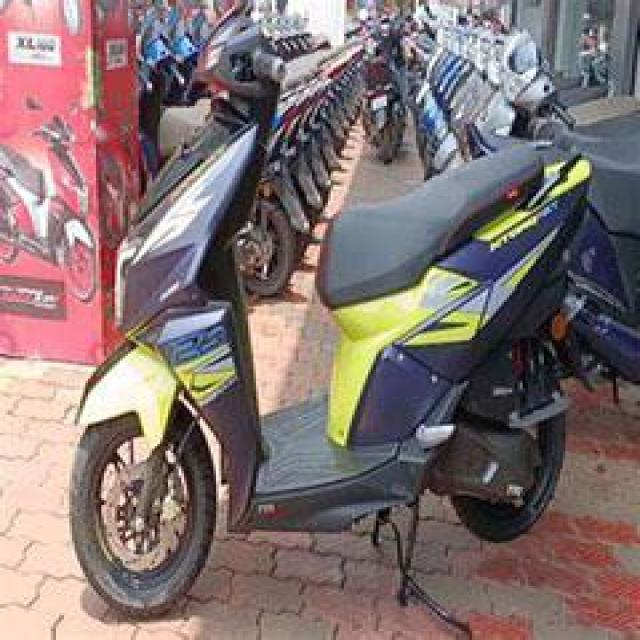motorcycle: (27, 9, 610, 613)
